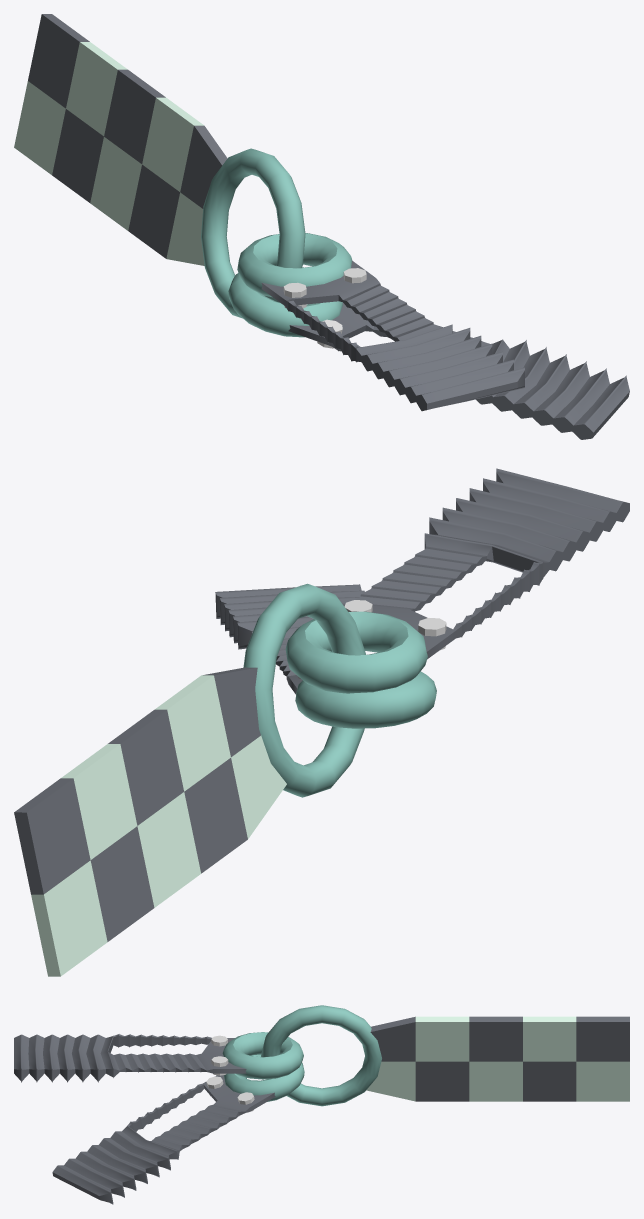
Rendered from Key.glb.
3 renders of one model, top to bottom at view 1: azimuth 30°, elevation 25°; view 2: azimuth 150°, elevation 25°; view 3: azimuth 270°, elevation 25°, orthographic. The views are drawn at different scales.
Visible parts, largest first — view 1: Cube; view 2: Cube; view 3: Cube.
Part boxes in pixels (x1,y1,x2,y2): Cube: (14,14,629,439); Cube: (14,468,629,976); Cube: (14,1005,629,1204).
Bounding box in the file's own units: 1.53 × 0.9423 × 4.12.
